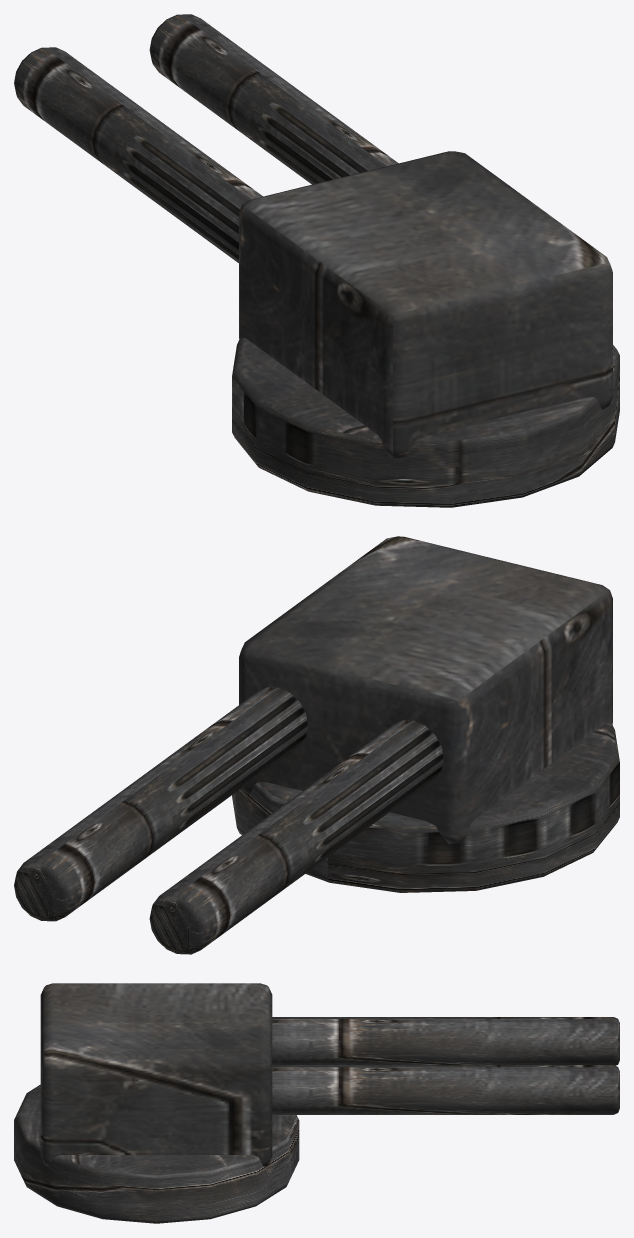
Rendered from weapon-mantis.gltf.
3 views of the same model, one above another, from view 1: azimuth 30°, elevation 25°; view 2: azimuth 150°, elevation 25°; view 3: azimuth 270°, elevation 25° (orthographic). The views are drawn at different scales.
Visible parts, largest first — view 1: Gun receiver, Turret ring, Muzzle, Muzzle.001; view 2: Gun receiver, Turret ring, Muzzle, Muzzle.001; view 3: Gun receiver, Turret ring, Muzzle.001, Muzzle.
Boxes of the visible parts, x1,y1,x2,y2 form: Gun receiver: (239,151,612,458); Turret ring: (232,337,619,507); Muzzle: (14,47,262,262); Muzzle.001: (149,14,398,184); Gun receiver: (239,536,612,843); Turret ring: (232,722,619,892); Muzzle: (149,720,443,954); Muzzle.001: (14,687,308,921); Gun receiver: (40,983,272,1166); Turret ring: (14,1084,299,1223); Muzzle.001: (272,1065,619,1114); Muzzle: (272,1017,619,1065).
Bounding box in the file's own units: 0.8 × 0.455 × 1.7.
1 material, 1 textured.
